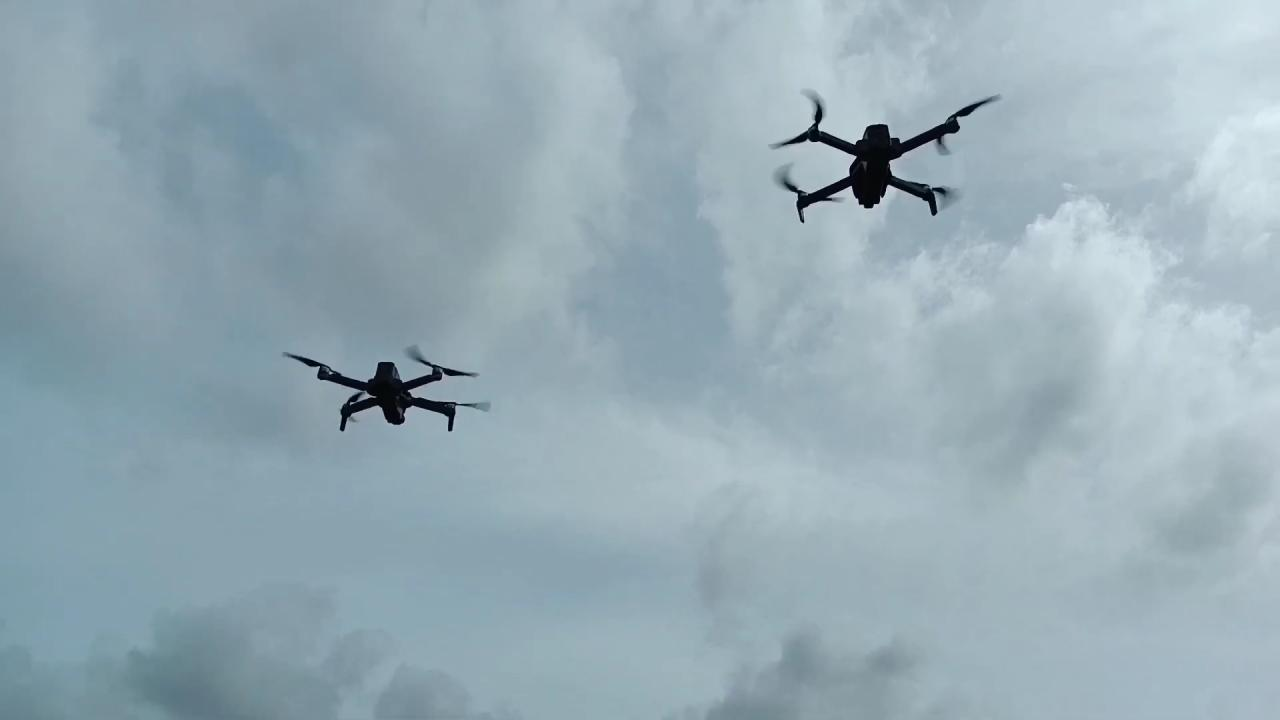Drone: (756, 74, 1018, 239), (274, 336, 501, 443)
